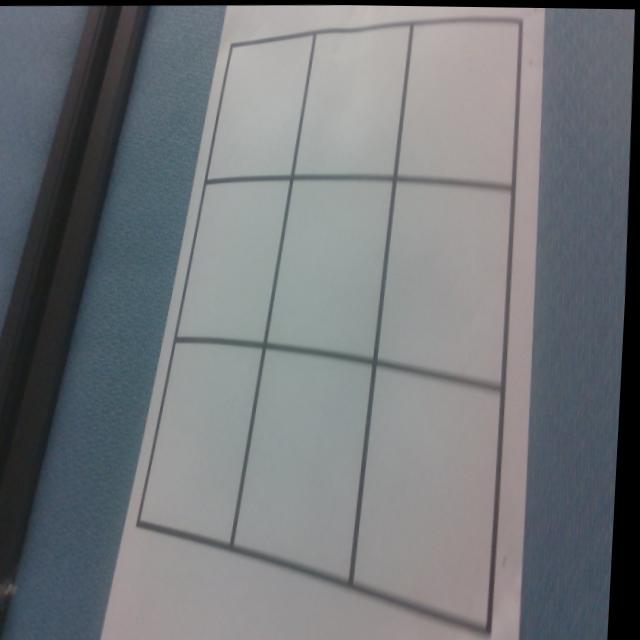null: (353, 363, 510, 626), (233, 347, 378, 585), (370, 178, 518, 391), (140, 339, 264, 551), (264, 178, 395, 359), (394, 19, 520, 189), (177, 177, 292, 350), (291, 22, 413, 185), (205, 29, 314, 192)
table: (126, 6, 537, 638)
